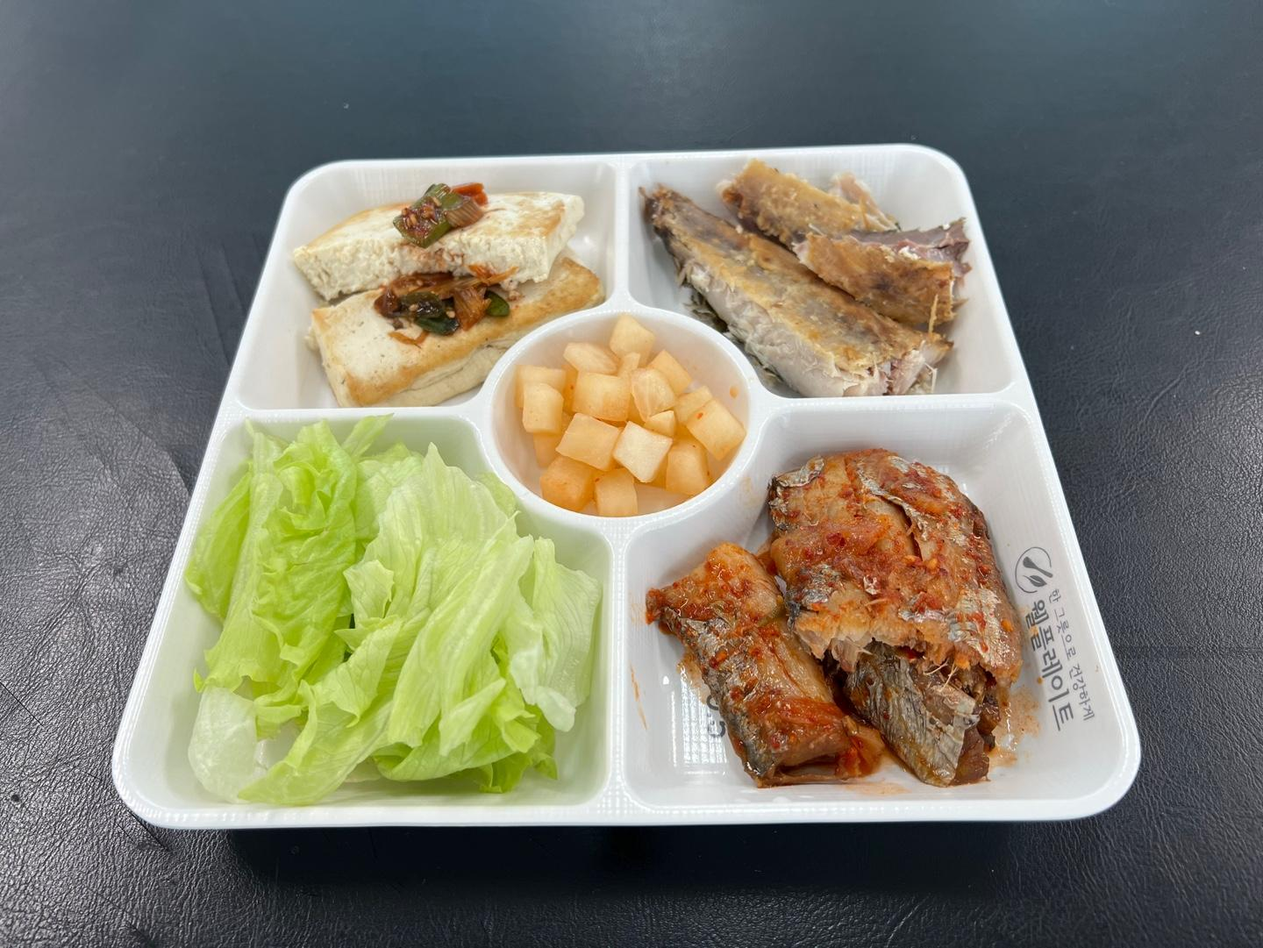food: (181, 183, 608, 748), (212, 441, 579, 782), (644, 450, 1026, 748), (686, 459, 1013, 778), (639, 160, 968, 400), (653, 164, 987, 389), (298, 180, 591, 405), (510, 317, 746, 519), (523, 329, 734, 501)
